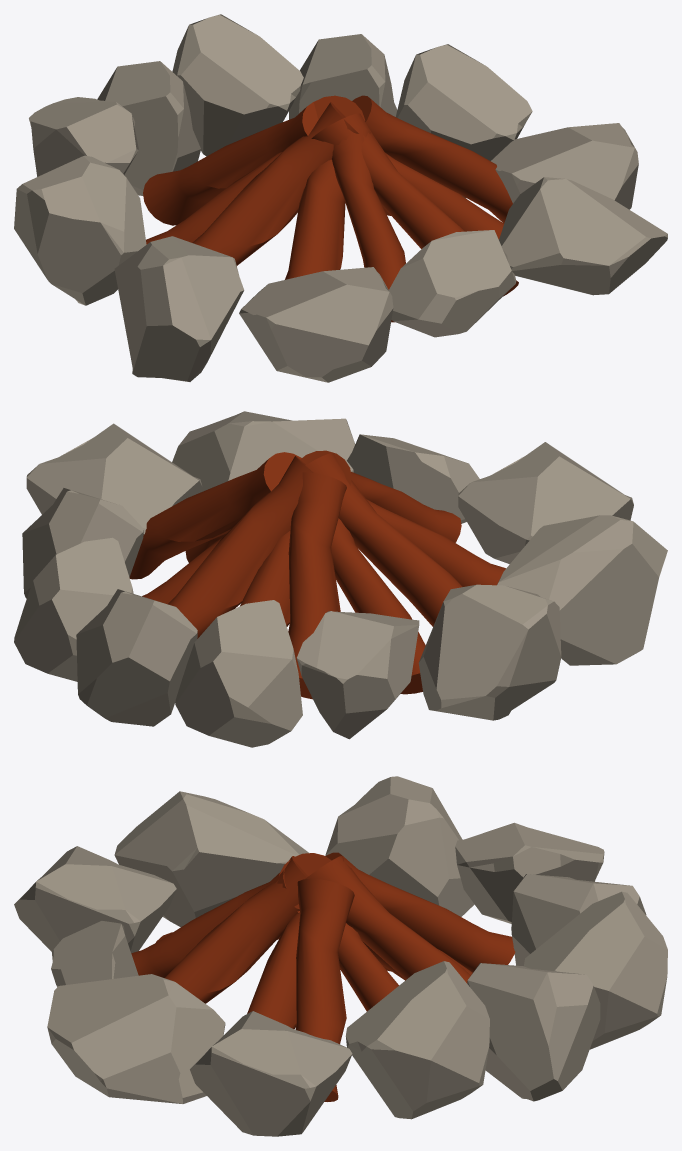
The model's file is fuego.fbx.
3 views of the same model, one above another, from view 1: azimuth 30°, elevation 25°; view 2: azimuth 150°, elevation 25°; view 3: azimuth 270°, elevation 25° (orthographic). The views are drawn at different scales.
Visible parts, largest first — view 1: LowPolyRock.007, LowPolyRock.002, LowPolyRock.004, LowPolyRock.009, LowPolyRock.010, LowPolyRock.006, LowPolyRock.003, LowPolyRock.008, Cylinder.008, LowPolyRock.001, Cylinder.009, Cylinder (+8 smaller); view 2: LowPolyRock.002, LowPolyRock.007, LowPolyRock.001, LowPolyRock.010, LowPolyRock.005, LowPolyRock.009, LowPolyRock, LowPolyRock.008, Cylinder.003, LowPolyRock.004, Cylinder.009, Cylinder (+8 smaller); view 3: LowPolyRock.004, LowPolyRock.006, LowPolyRock.002, LowPolyRock, LowPolyRock.008, LowPolyRock.007, LowPolyRock.010, LowPolyRock.009, LowPolyRock.005, Cylinder, Cylinder.004, Cylinder.009 (+7 smaller).
Part boxes in pixels (bbox=[...]): LowPolyRock.007: bbox=[14, 155, 146, 305]; LowPolyRock.002: bbox=[114, 236, 244, 381]; LowPolyRock.004: bbox=[499, 177, 667, 295]; LowPolyRock.009: bbox=[239, 267, 393, 382]; LowPolyRock.010: bbox=[172, 14, 303, 156]; LowPolyRock.006: bbox=[396, 44, 532, 198]; LowPolyRock.003: bbox=[389, 230, 516, 337]; LowPolyRock.008: bbox=[491, 123, 638, 209]; Cylinder.008: bbox=[192, 102, 358, 265]; LowPolyRock.001: bbox=[97, 61, 200, 195]; Cylinder.009: bbox=[143, 102, 318, 225]; Cylinder: bbox=[352, 95, 512, 223]; LowPolyRock.002: bbox=[497, 515, 667, 665]; LowPolyRock.007: bbox=[418, 584, 561, 720]; LowPolyRock.001: bbox=[175, 600, 302, 747]; LowPolyRock.010: bbox=[76, 589, 197, 726]; LowPolyRock.005: bbox=[297, 611, 419, 739]; LowPolyRock.009: bbox=[458, 442, 633, 564]; LowPolyRock: bbox=[14, 537, 133, 681]; LowPolyRock.008: bbox=[26, 423, 202, 534]; Cylinder.003: bbox=[168, 456, 313, 638]; LowPolyRock.004: bbox=[172, 411, 355, 491]; Cylinder.009: bbox=[288, 472, 346, 699]; Cylinder: bbox=[129, 452, 301, 579]; LowPolyRock.004: bbox=[47, 974, 225, 1103]; LowPolyRock.006: bbox=[345, 961, 489, 1119]; LowPolyRock.002: bbox=[114, 791, 309, 927]; LowPolyRock: bbox=[467, 963, 600, 1101]; LowPolyRock.008: bbox=[190, 1011, 352, 1136]; LowPolyRock.007: bbox=[325, 776, 474, 916]; LowPolyRock.010: bbox=[524, 891, 667, 1049]; LowPolyRock.009: bbox=[14, 846, 176, 952]; LowPolyRock.005: bbox=[455, 822, 604, 923]; Cylinder: bbox=[295, 878, 354, 1101]; Cylinder.004: bbox=[164, 856, 308, 1003]; Cylinder.009: bbox=[325, 852, 515, 972].
Size of the model in its own units: 596 by 185 by 601.
